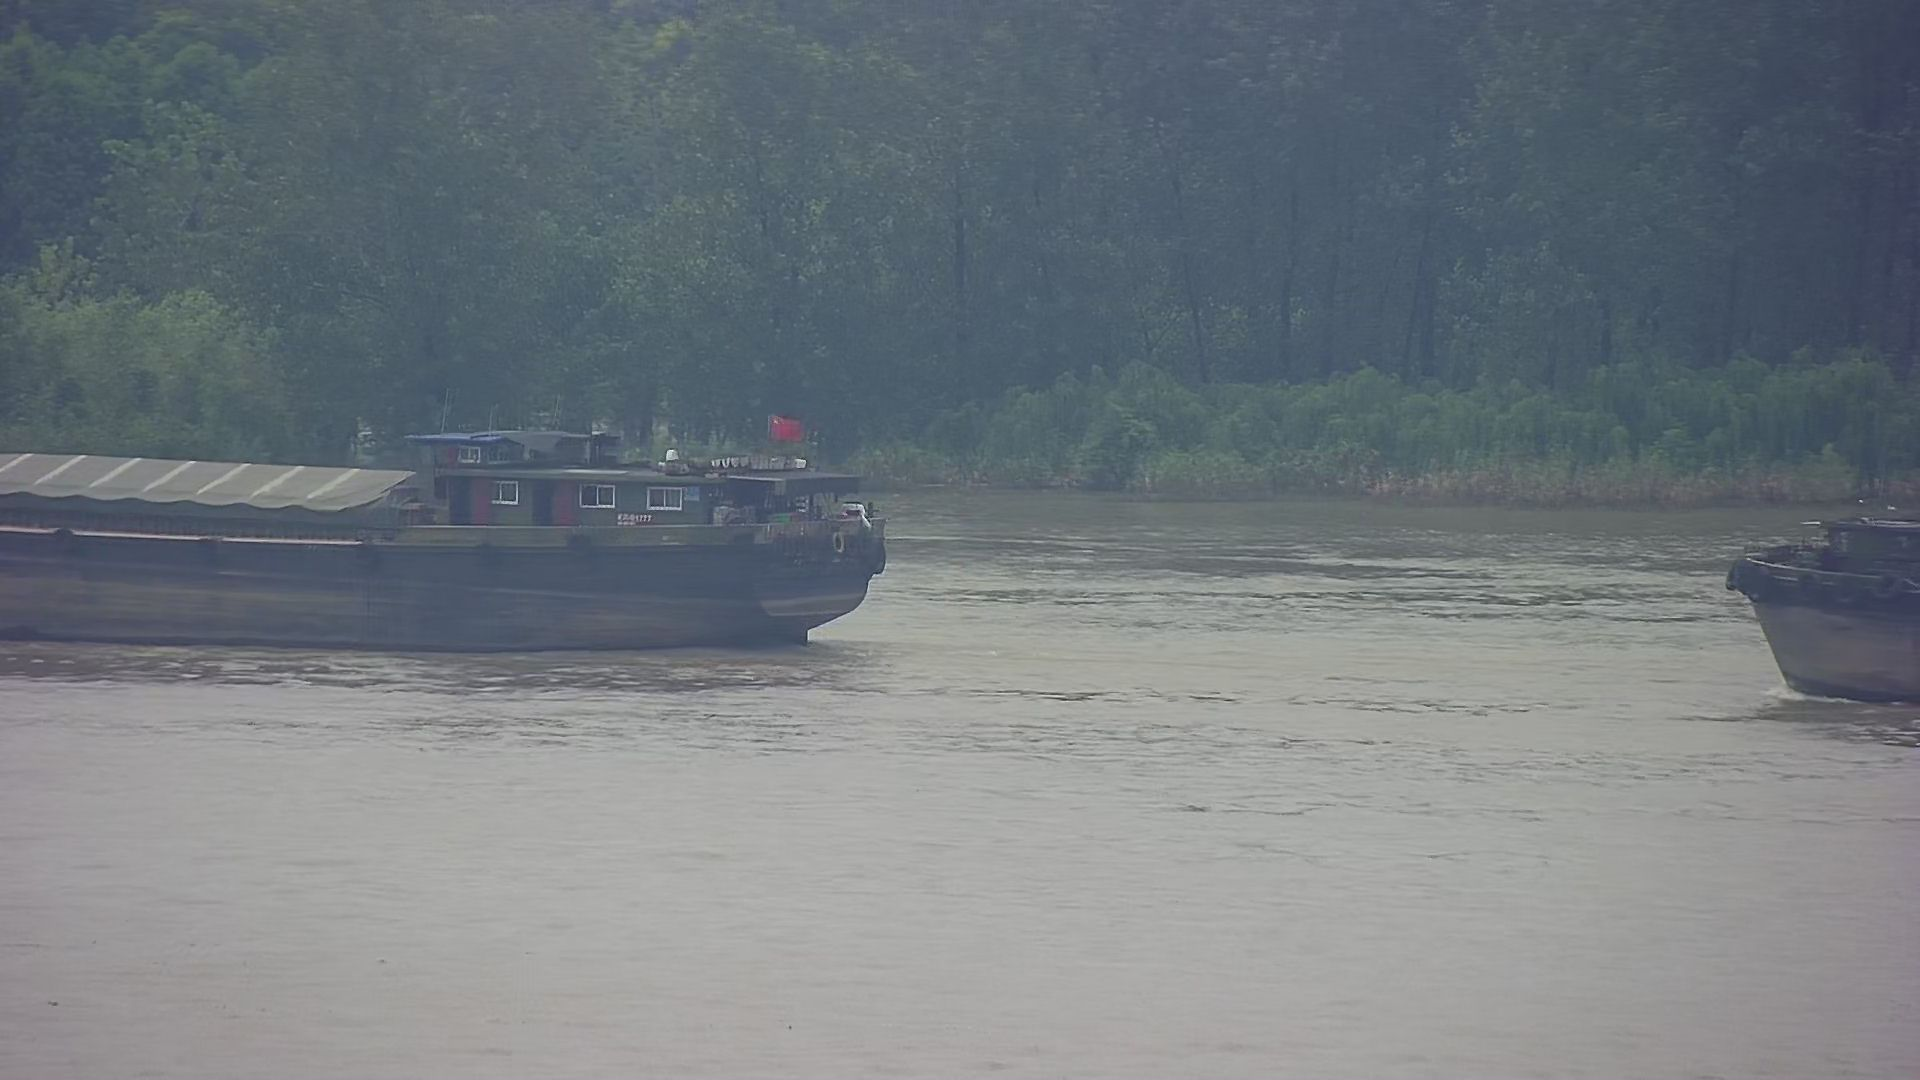ship: (1, 359, 927, 679), (1702, 491, 1920, 717)
